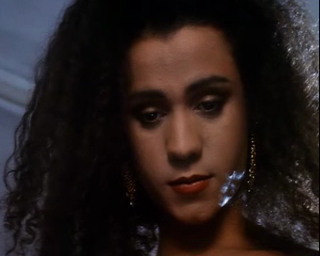cu: (1, 1, 320, 256)
face: (127, 26, 245, 224)
person: (1, 1, 317, 256)
